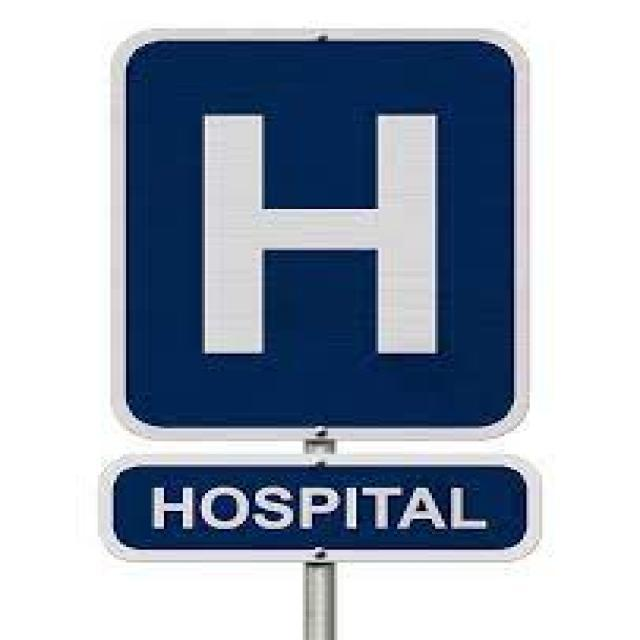hospital ahead: (108, 23, 526, 438)
